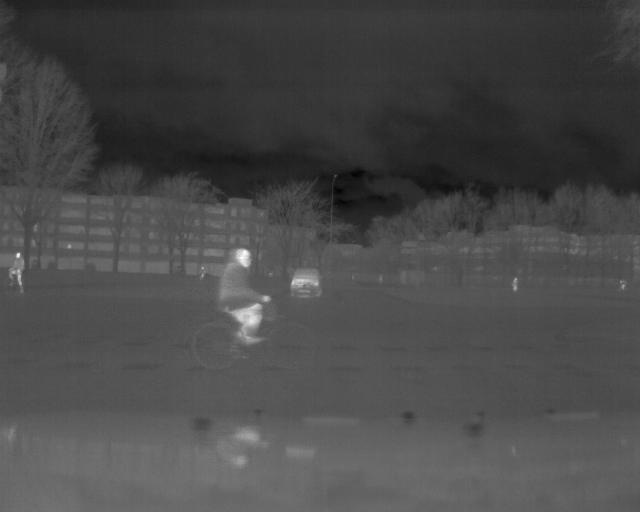car: (285, 266, 325, 300)
person: (216, 242, 272, 355), (6, 249, 27, 297)
